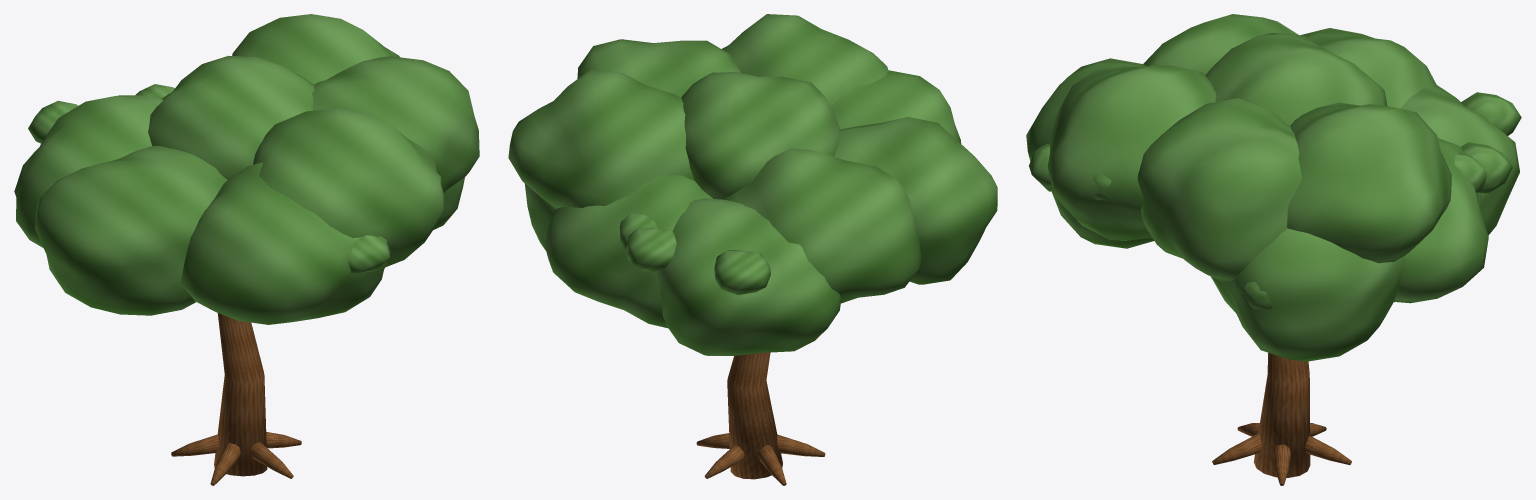
File: orchard_pear.glb
The picture shows the model from 3 angles, left to right: view 1: azimuth 30°, elevation 25°; view 2: azimuth 150°, elevation 25°; view 3: azimuth 270°, elevation 25°; orthographic projection. The views are drawn at different scales.
Visible parts, largest first — view 1: orchard_pear.002; view 2: orchard_pear.002; view 3: orchard_pear.002.
Part boxes in pixels (x1=…): orchard_pear.002: x1=14, y1=14, x2=479, y2=485; orchard_pear.002: x1=508, y1=14, x2=997, y2=485; orchard_pear.002: x1=1026, y1=14, x2=1521, y2=485.
Bounding box in the file's own units: 7.84 × 6.99 × 7.51.
Materials: 1 (1 with a texture image).
